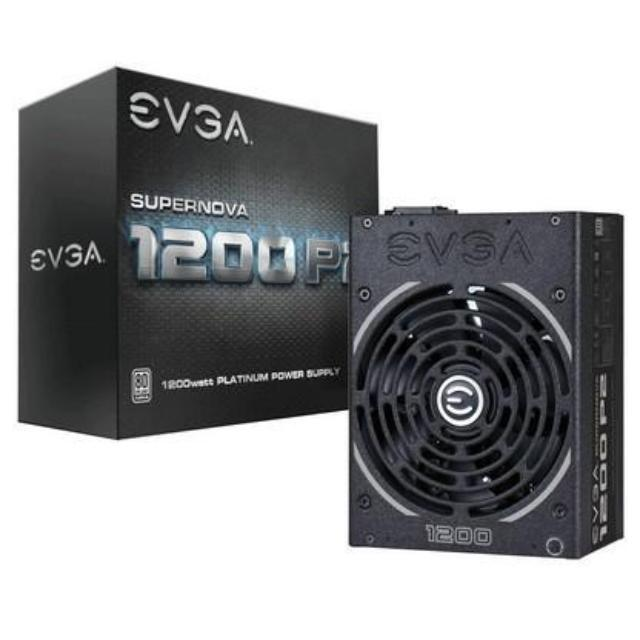PSU: (331, 188, 637, 568)
